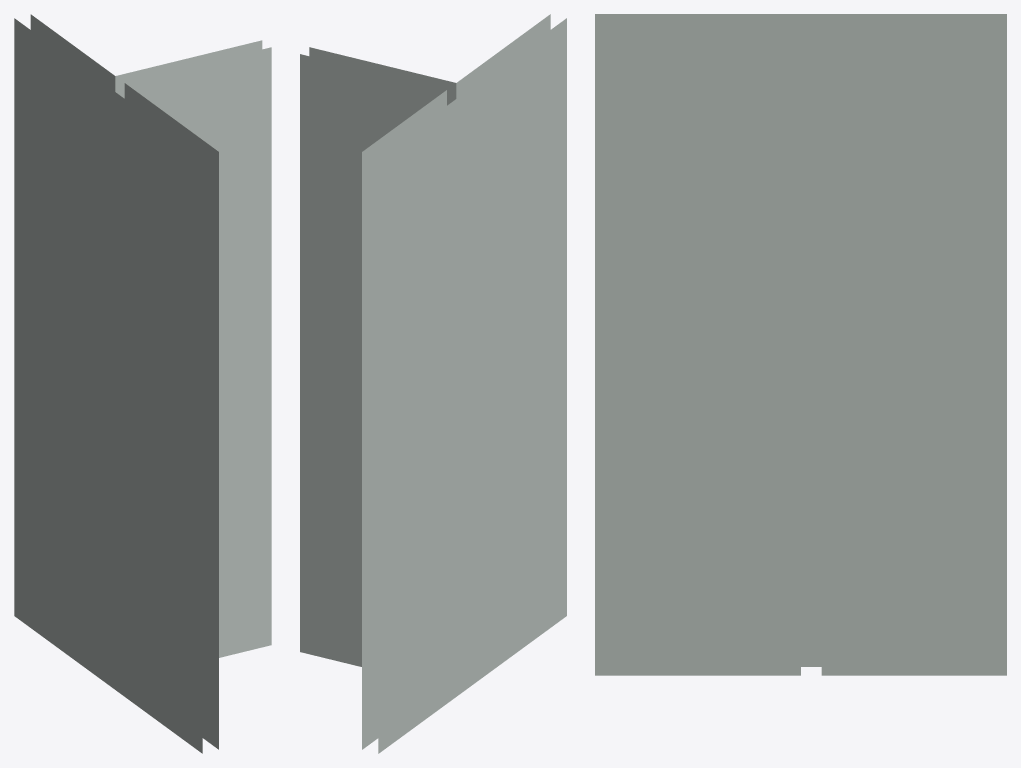
File: SM_Wall_Outer_Corner_A_400.fbx
3 renders of one model, left to right at view 1: azimuth 30°, elevation 25°; view 2: azimuth 150°, elevation 25°; view 3: azimuth 270°, elevation 25°, orthographic. The views are drawn at different scales.
Parts seen in each view (by area): view 1: SM_Wall_Outer_Corner_A_400; view 2: SM_Wall_Outer_Corner_A_400; view 3: SM_Wall_Outer_Corner_A_400.
Boxes of the visible parts, <box> form: SM_Wall_Outer_Corner_A_400: <box>14,14,271,753</box>; SM_Wall_Outer_Corner_A_400: <box>300,14,566,753</box>; SM_Wall_Outer_Corner_A_400: <box>595,14,1006,675</box>.
Size of the model in its own units: 200 by 400 by 700.
6 materials, 6 textured.
